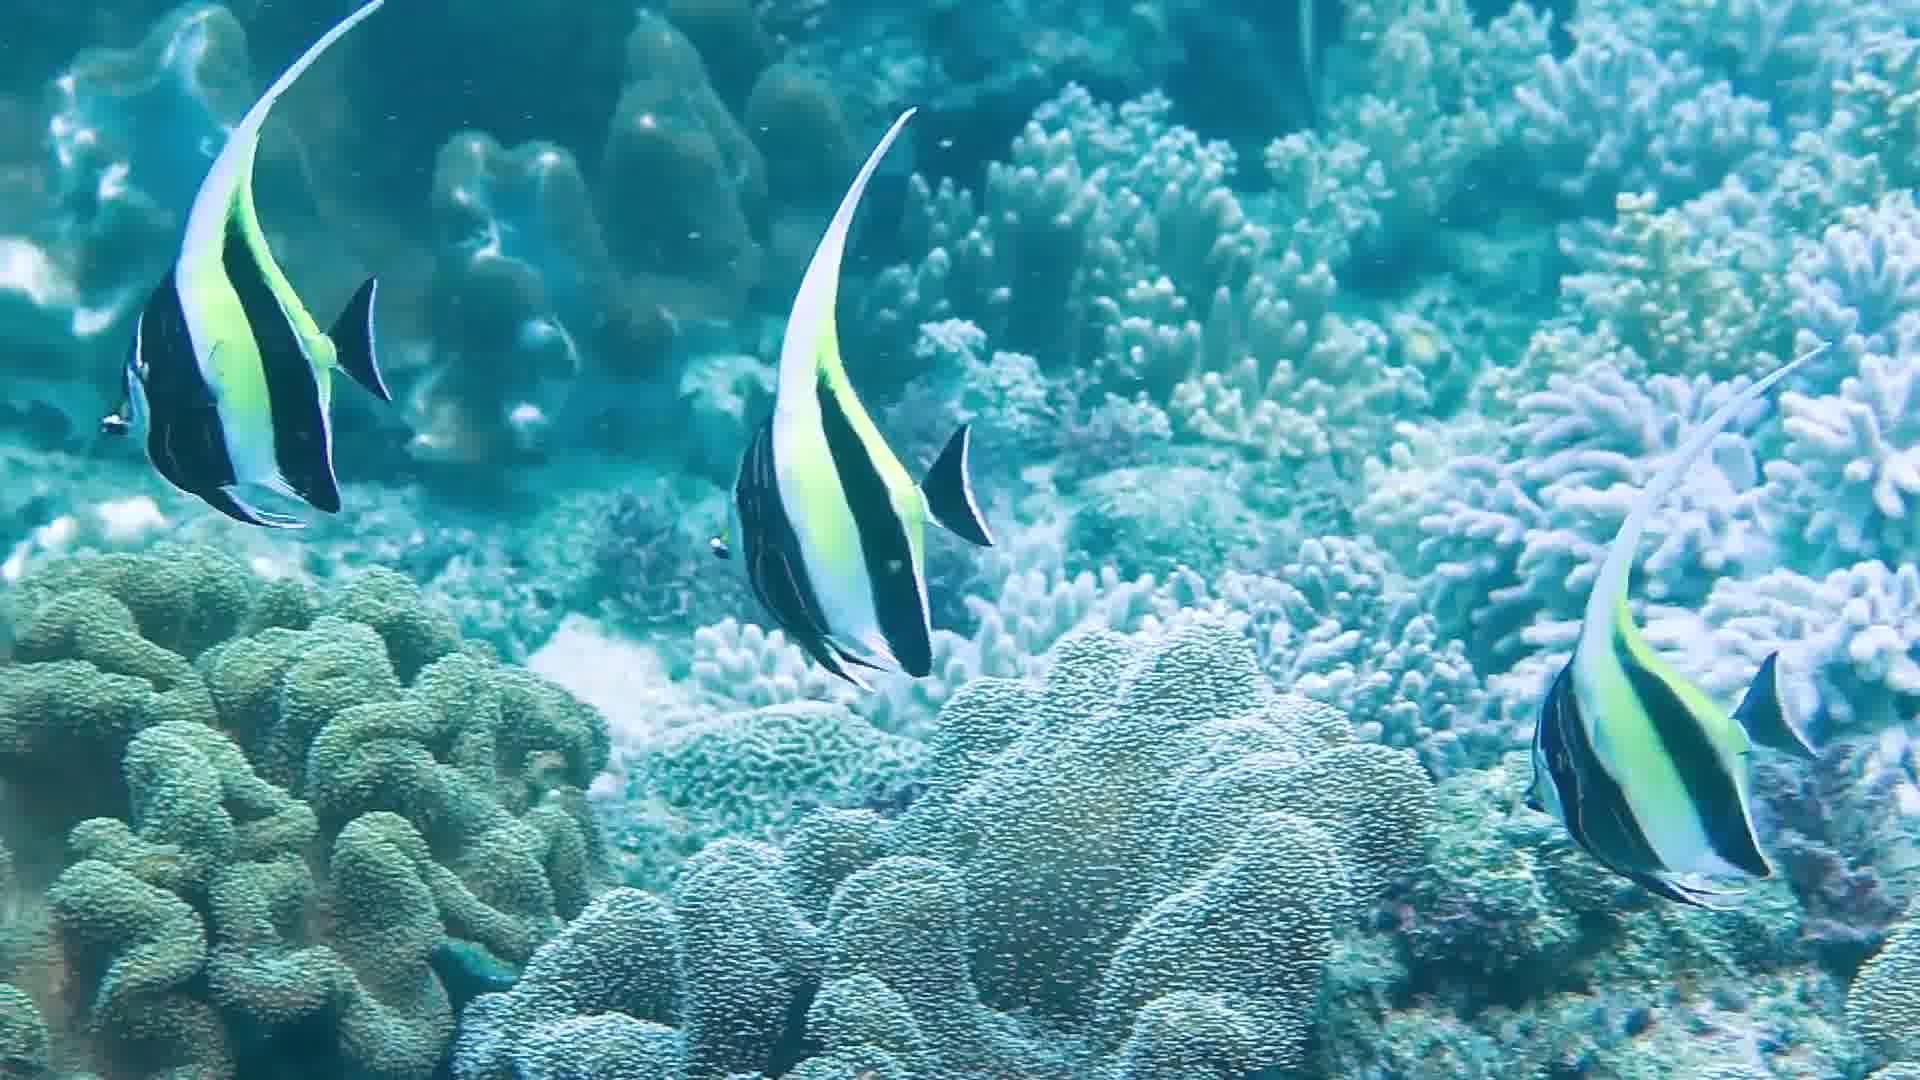Zanclus cornutus: (109, 216, 426, 546), (694, 348, 997, 671)
